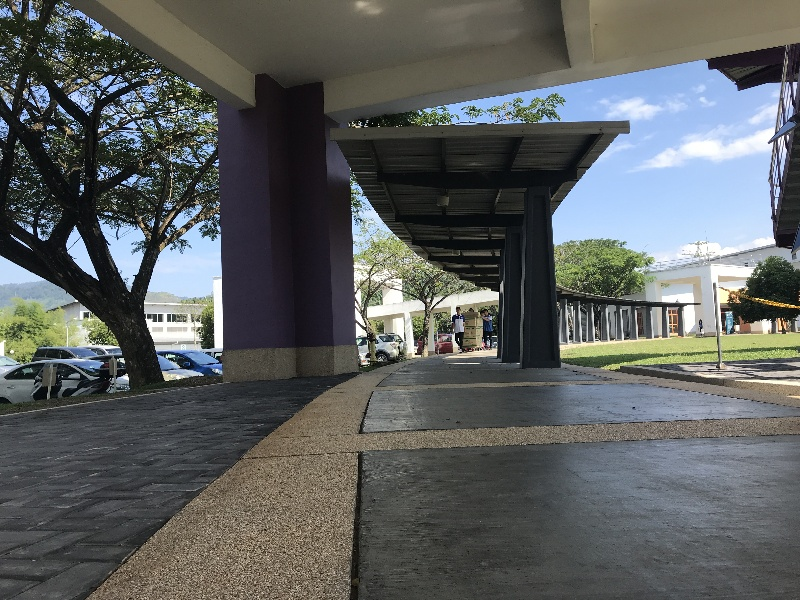Block D Pillar 6: (11, 9, 800, 539)
pillar: (199, 65, 368, 393), (509, 178, 570, 379)
